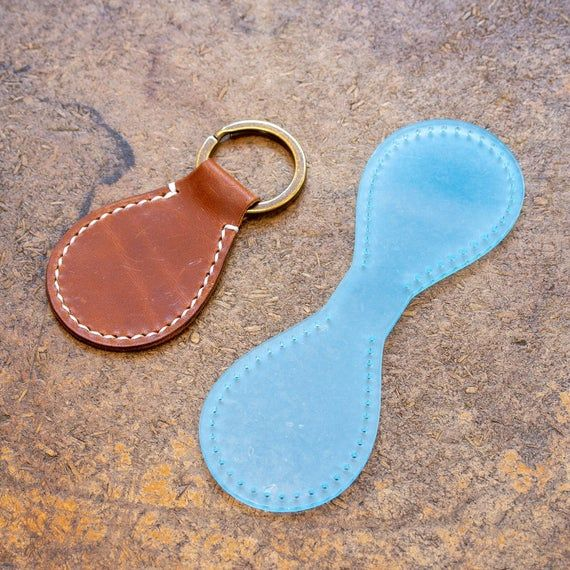cuero: (45, 158, 260, 352)
